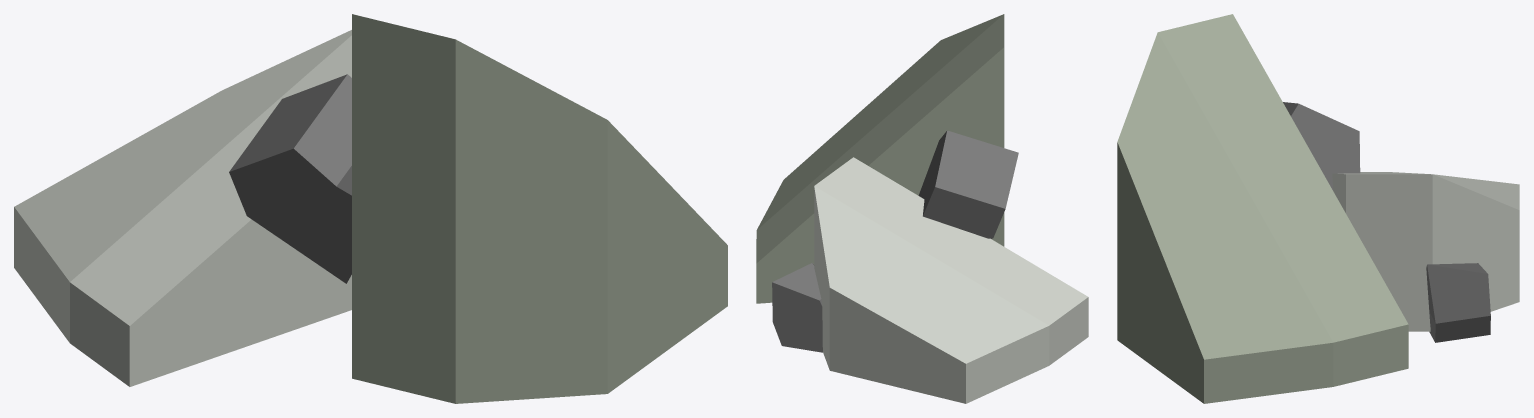
Rendered from Rock_Type5_03.glb.
The picture shows the model from 3 angles, left to right: view 1: azimuth 30°, elevation 25°; view 2: azimuth 150°, elevation 25°; view 3: azimuth 270°, elevation 25°; orthographic projection. The views are drawn at different scales.
Visible parts, largest first — view 1: Rock Type5 03 mesh; view 2: Rock Type5 03 mesh; view 3: Rock Type5 03 mesh.
Boxes of the visible parts, x1,y1,x2,y2 form: Rock Type5 03 mesh: [14, 14, 727, 403]; Rock Type5 03 mesh: [756, 14, 1088, 403]; Rock Type5 03 mesh: [1117, 14, 1519, 403].
Size of the model in its own units: 2.17 by 1.44 by 1.96.
1 material, 1 textured.
